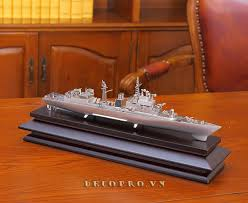tau_muctieu: (43, 81, 230, 142)
